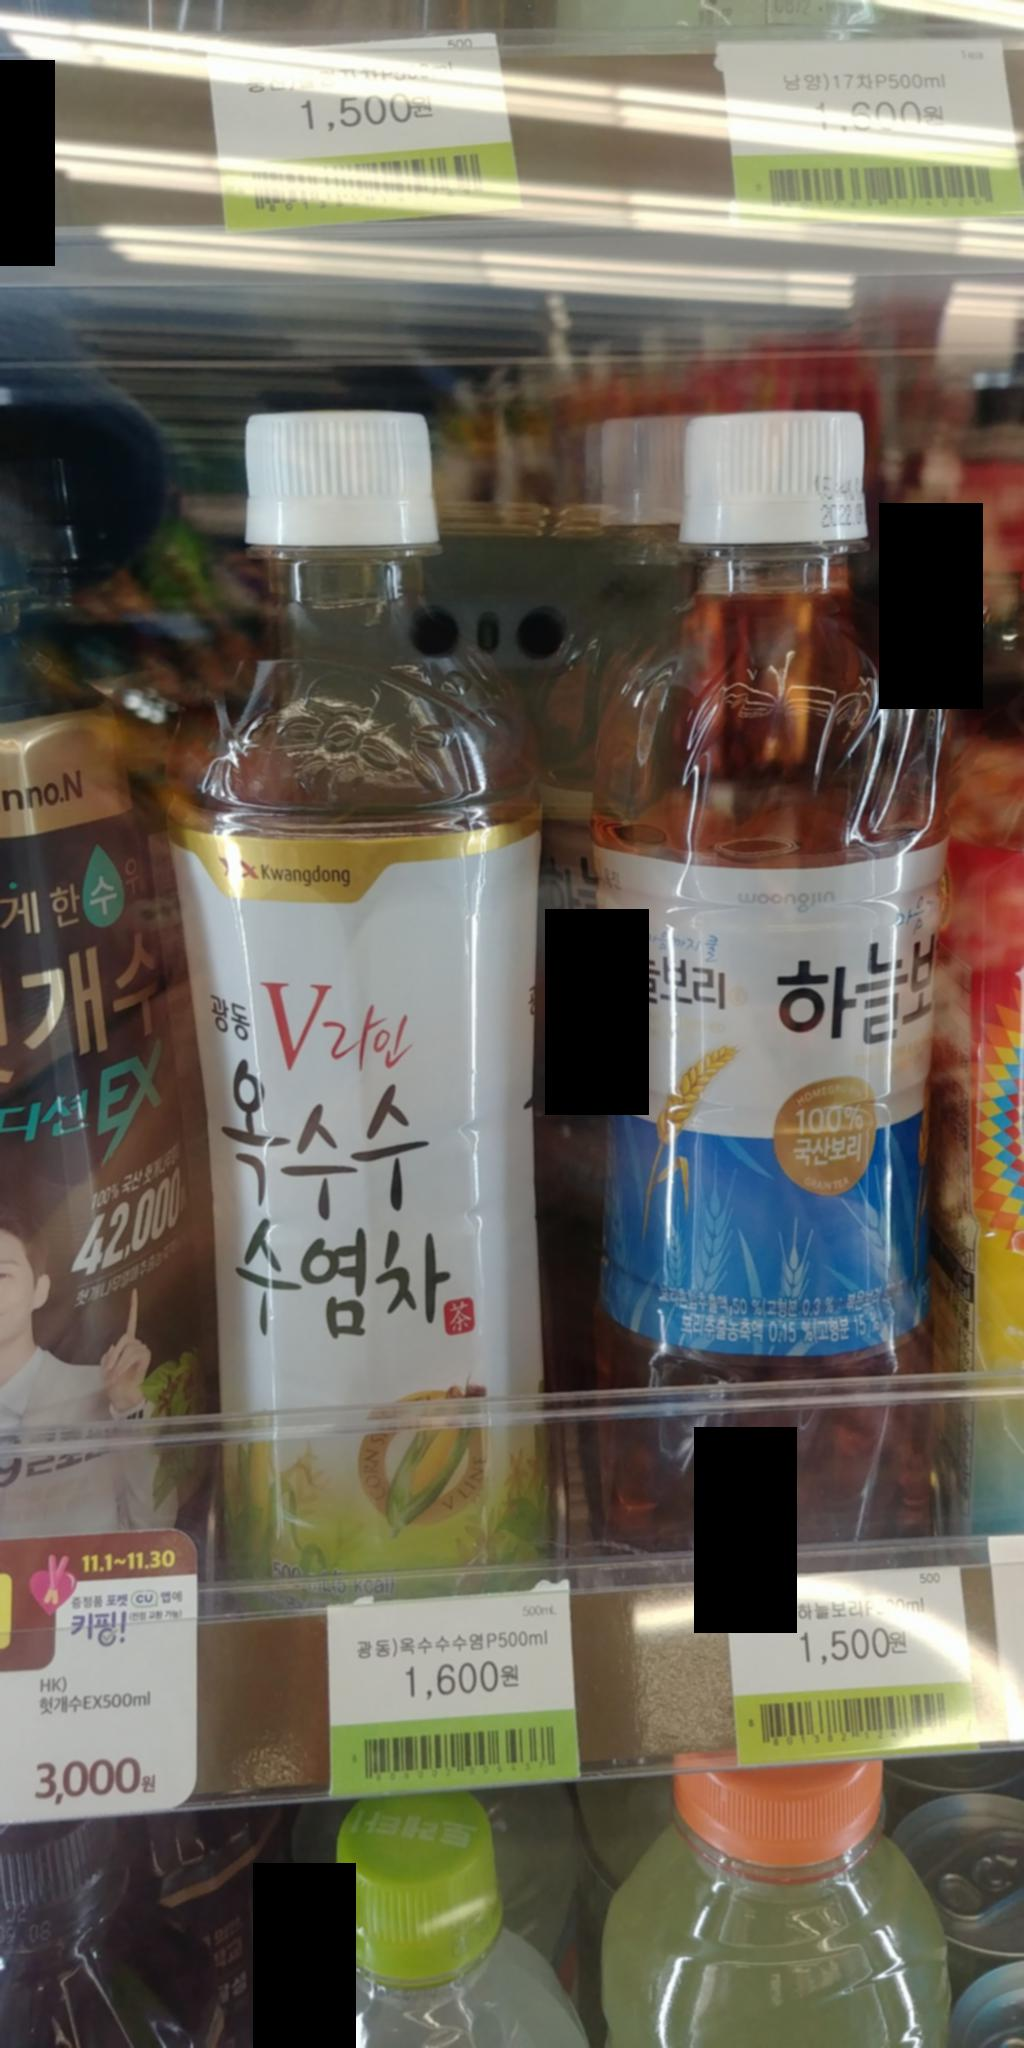haneulbori: (566, 396, 967, 1550)
oksususuyeomcha: (138, 394, 584, 1590)
